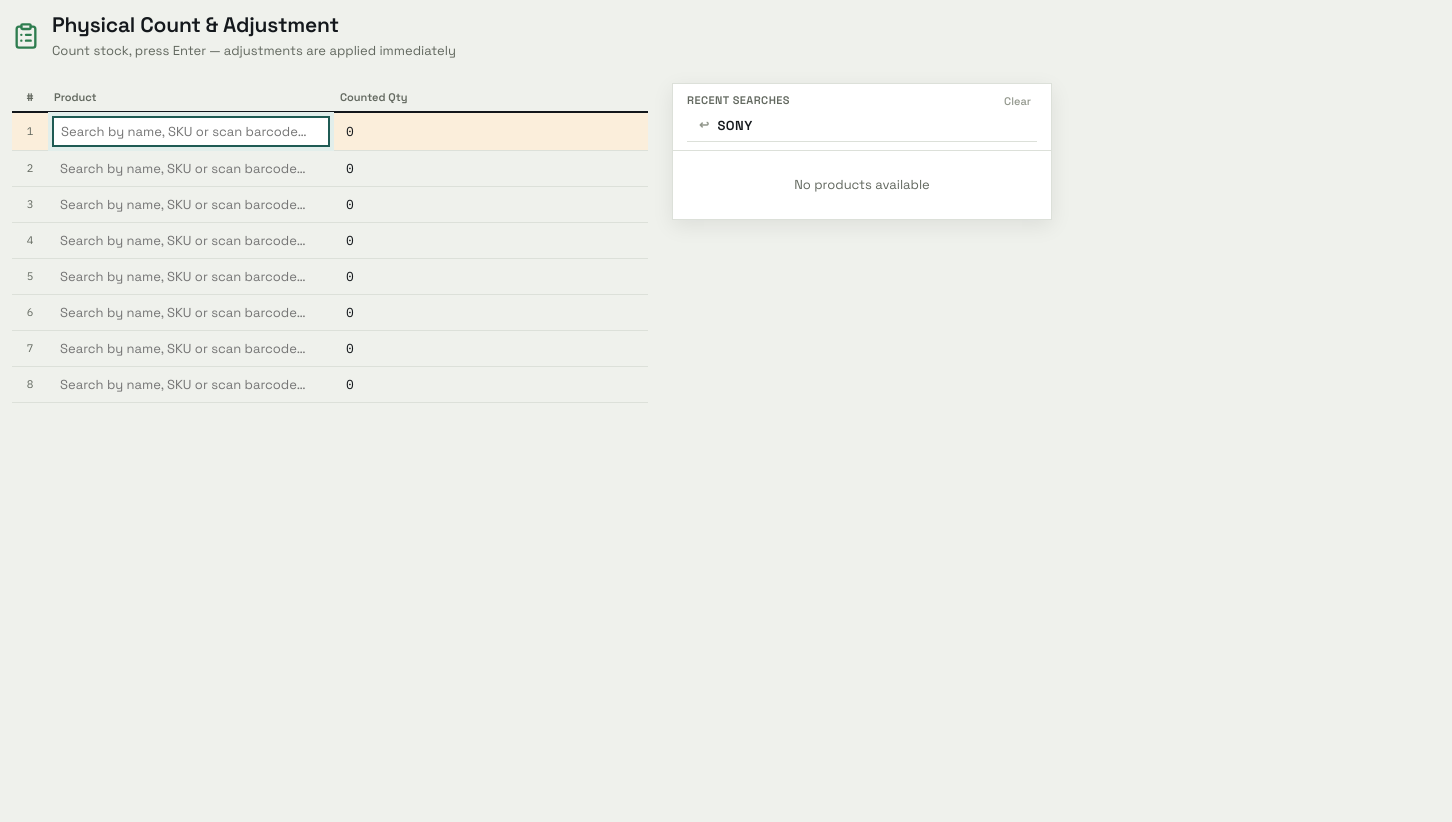
it: PhysicalCountAdjustmentView — single-step immediate adjust › committed row appears in count sheet with correct variance
Check: the element with test id "count-session-grid" is shown, box [12,83,1052,403]
In the 1st field with test id "field-product": (191, 132) [52,116,330,147], type "Sony"
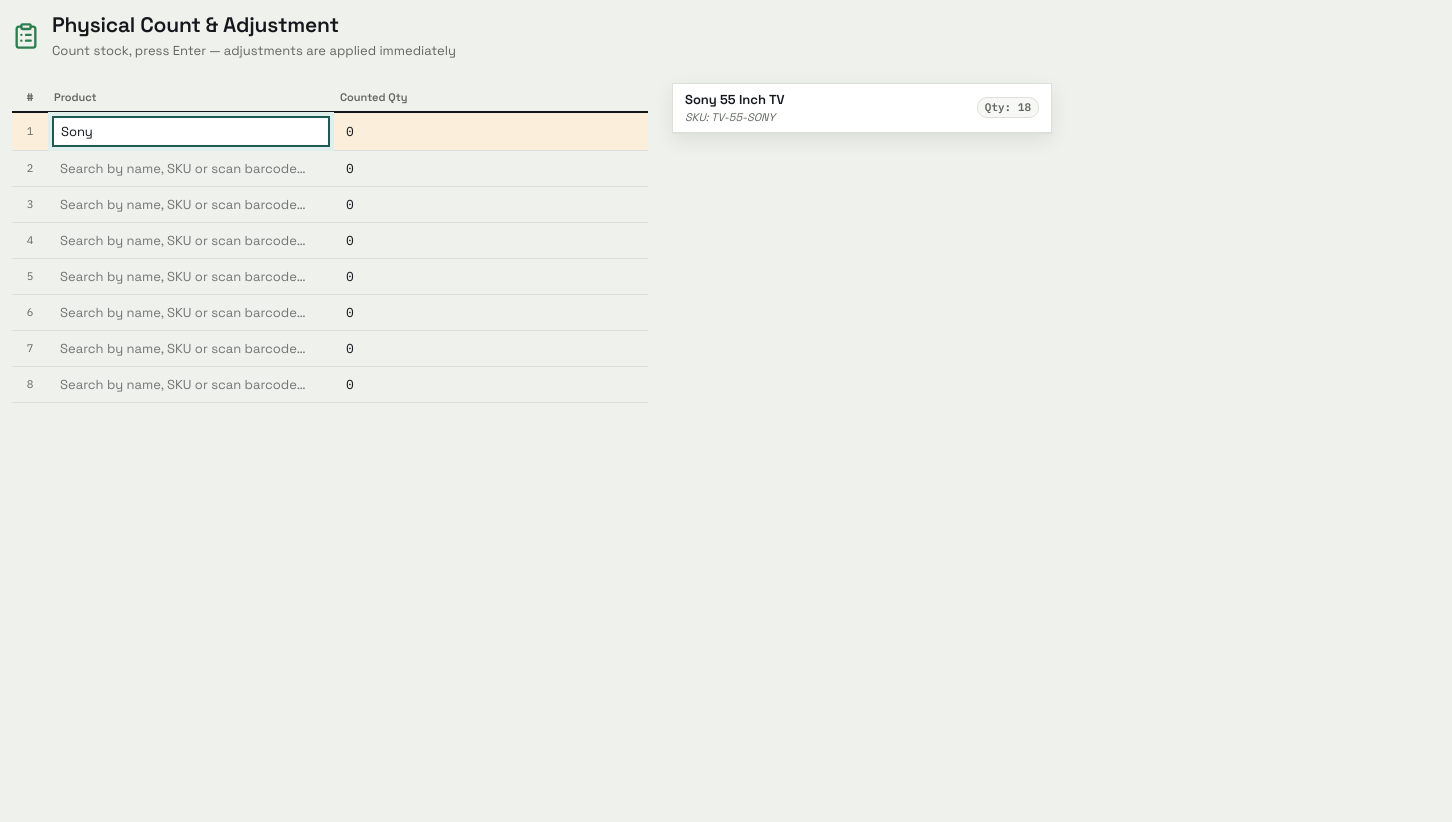
Check: the option with test id "search-result-PROD-TV-55" is shown
Click the option with test id "search-result-PROD-TV-55": click(735, 99) [673,84,1051,133]
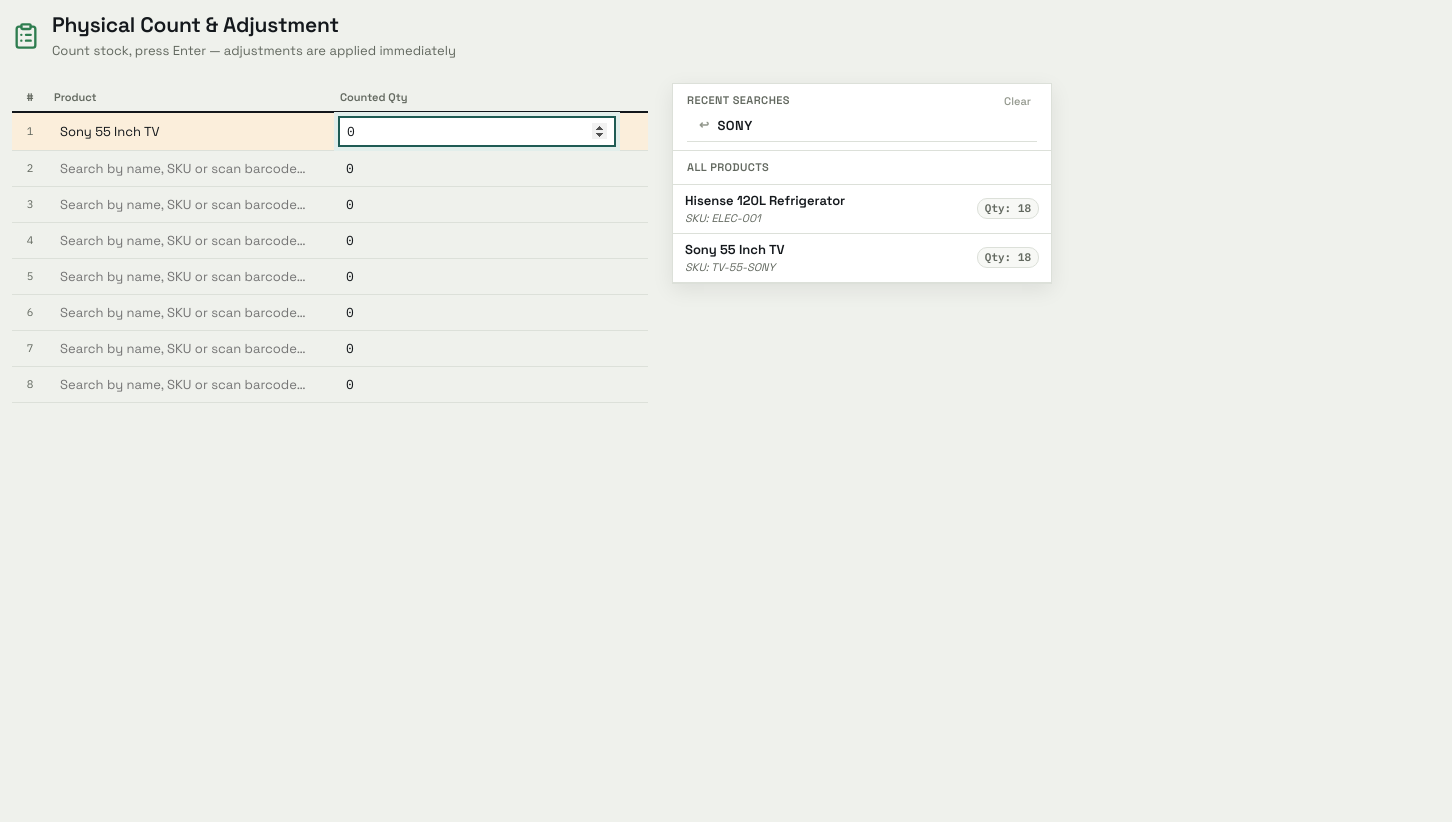
Replace the text in the 1st number field with test id "field-countedQty" with "17": (477, 132) [338,116,616,147]
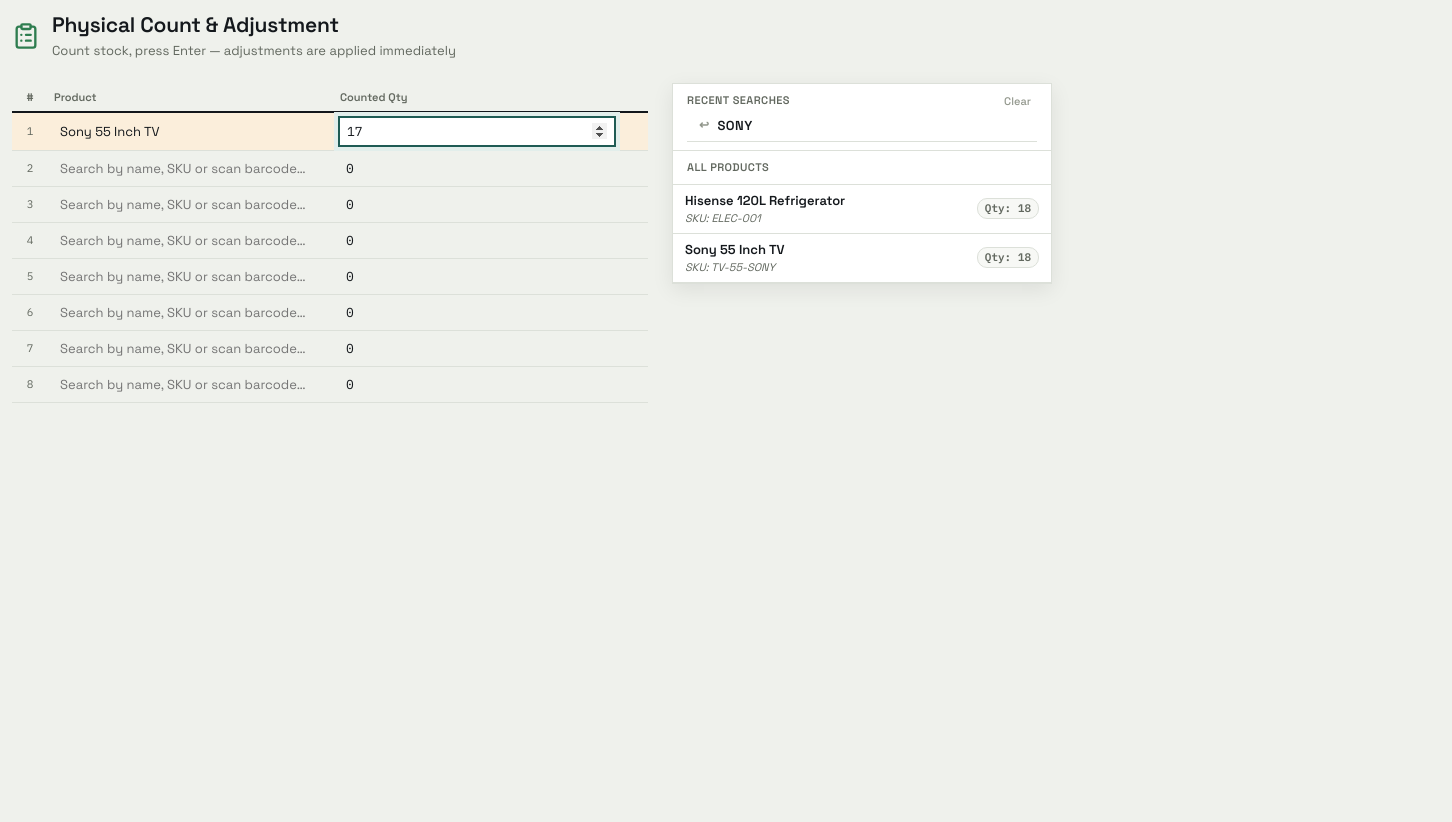
Press Enter in the 1st number field with test id "field-countedQty", box [338,116,616,147]
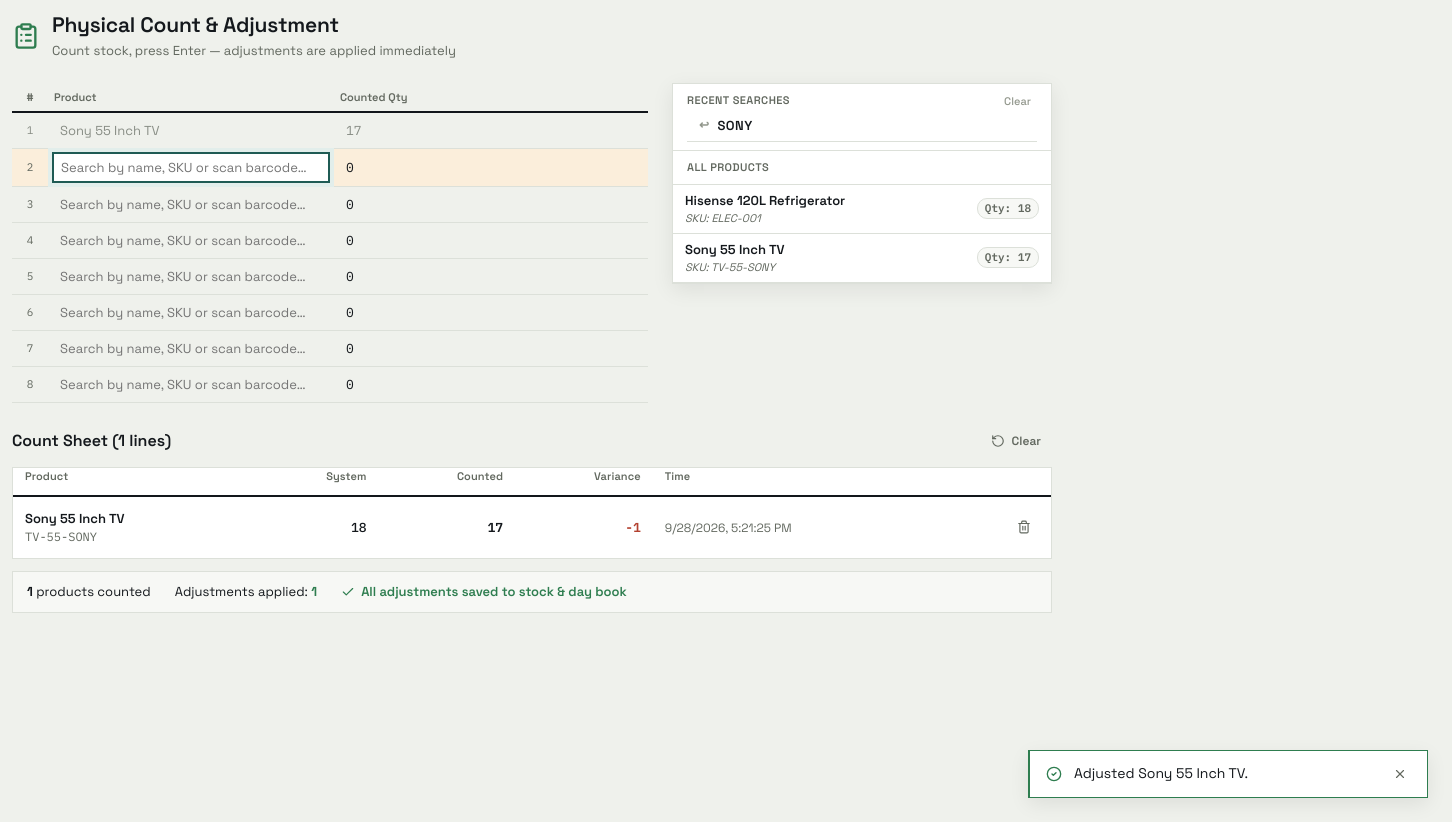
Check: the element with test id "count-sheet-table" shows "Sony 55 Inch TV", box [25,510,125,527]
Check: the element with test id "count-sheet-table" shows "-1", box [625,519,641,536]
